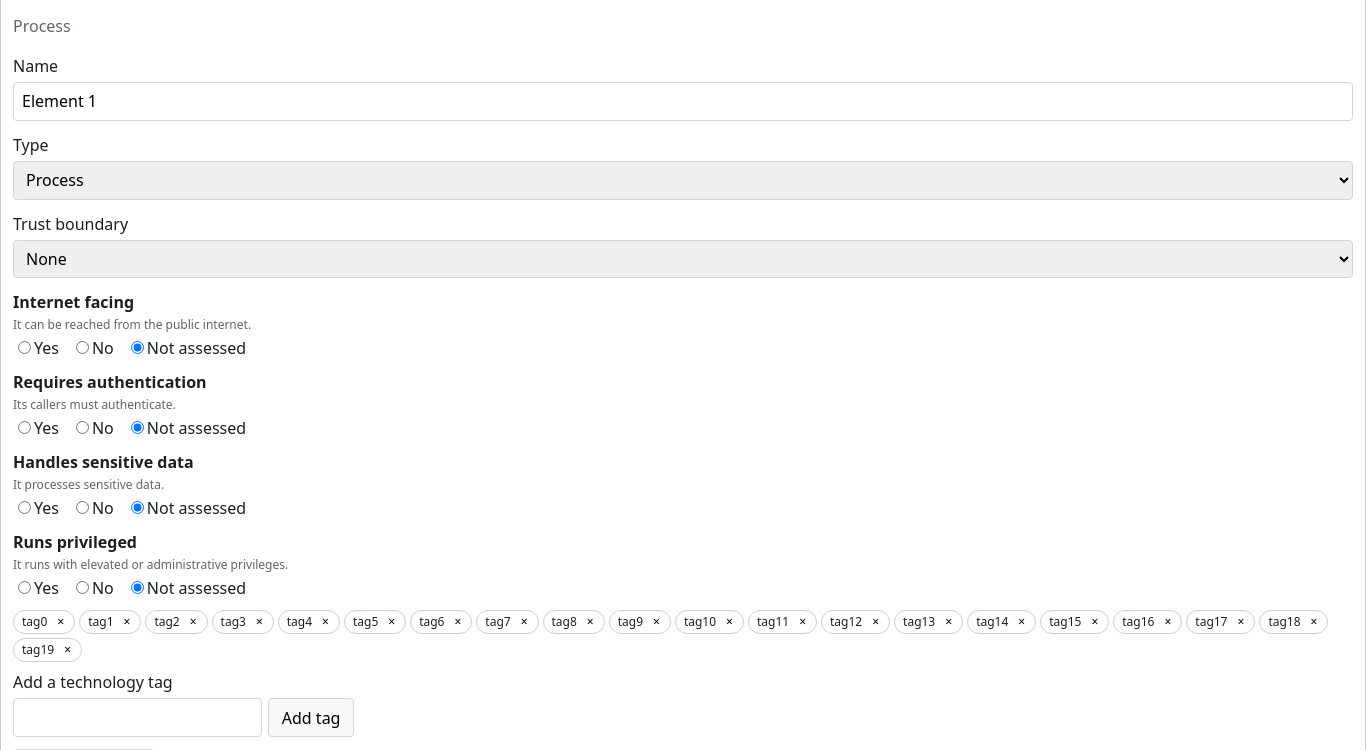
it: technology tags (FR-016) › refuses a 21st tag
Type "one more" into the field labelled "Add a technology tag" at (138, 718), box [13,698,262,737]
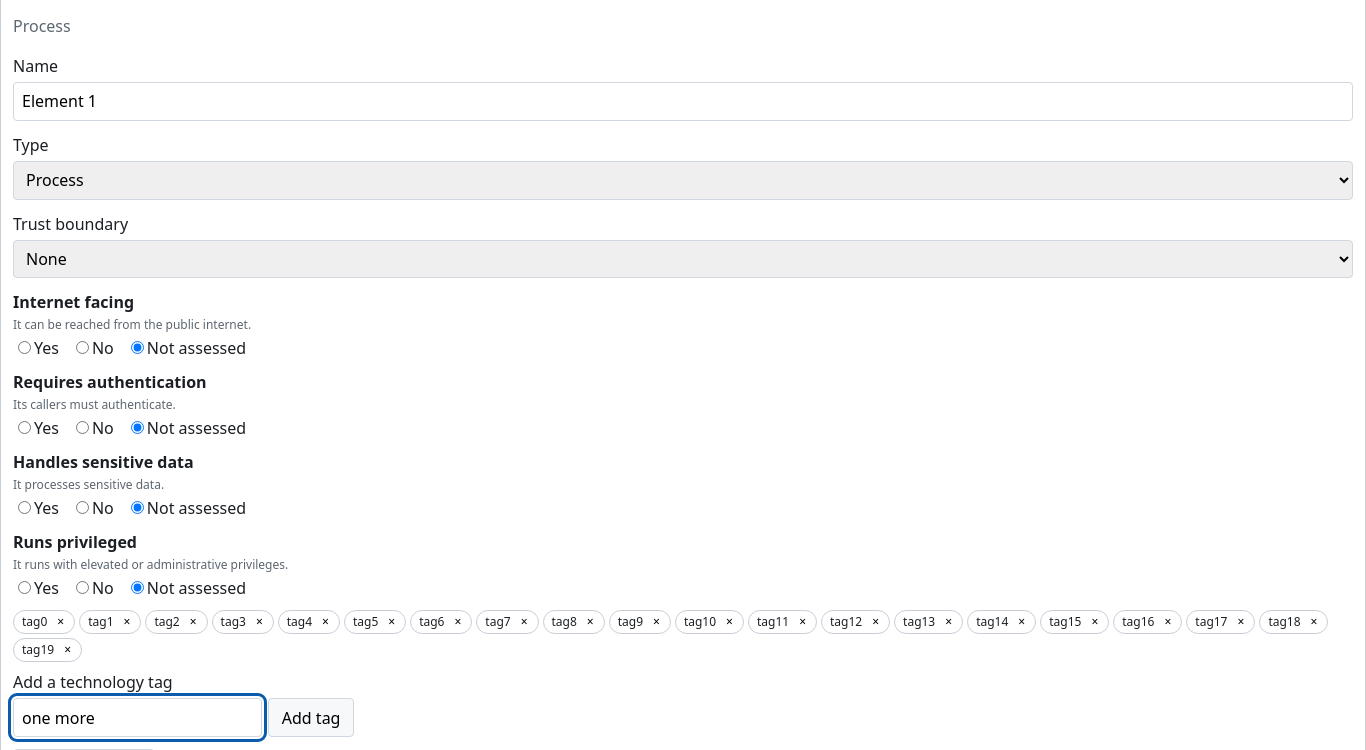
Click the button "Add tag" at (311, 718), box [268,698,354,737]
(page scrolled)
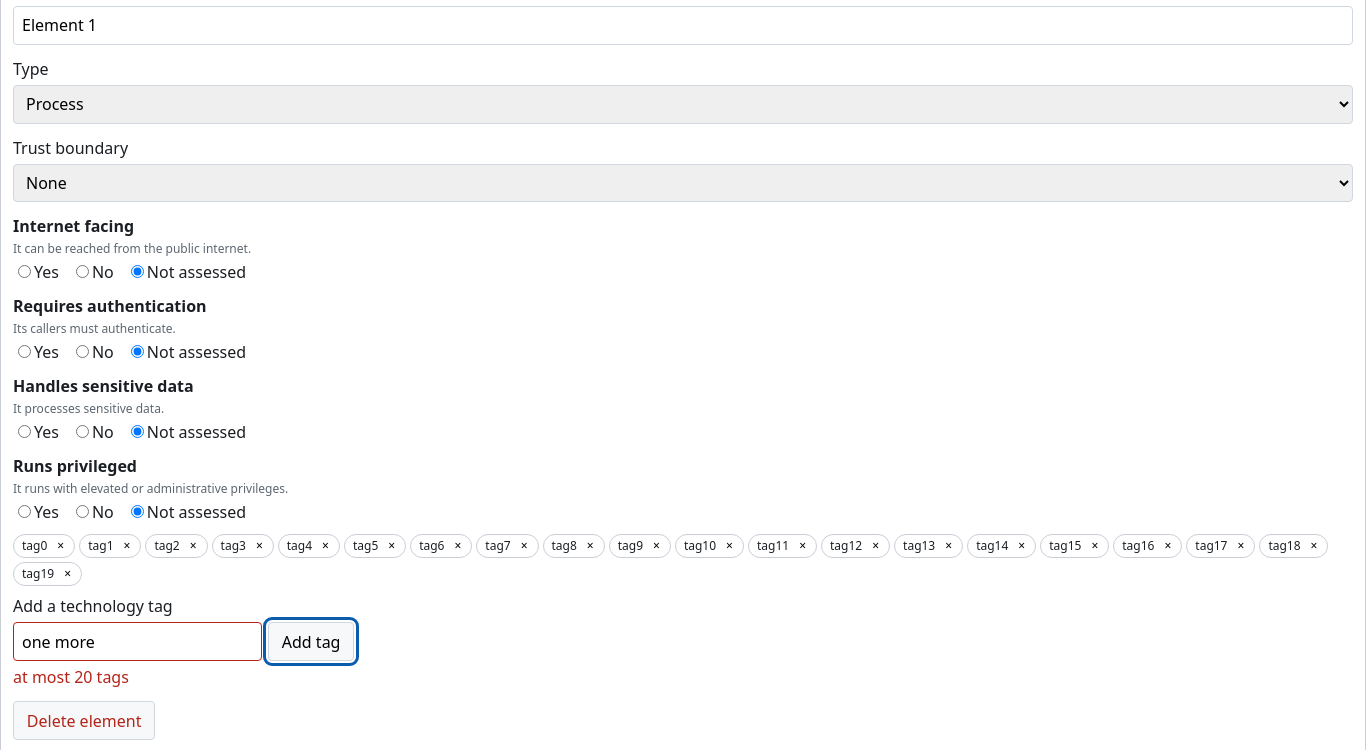
Expected: the text "at most 20 tags" is shown, [13,666,129,688]
